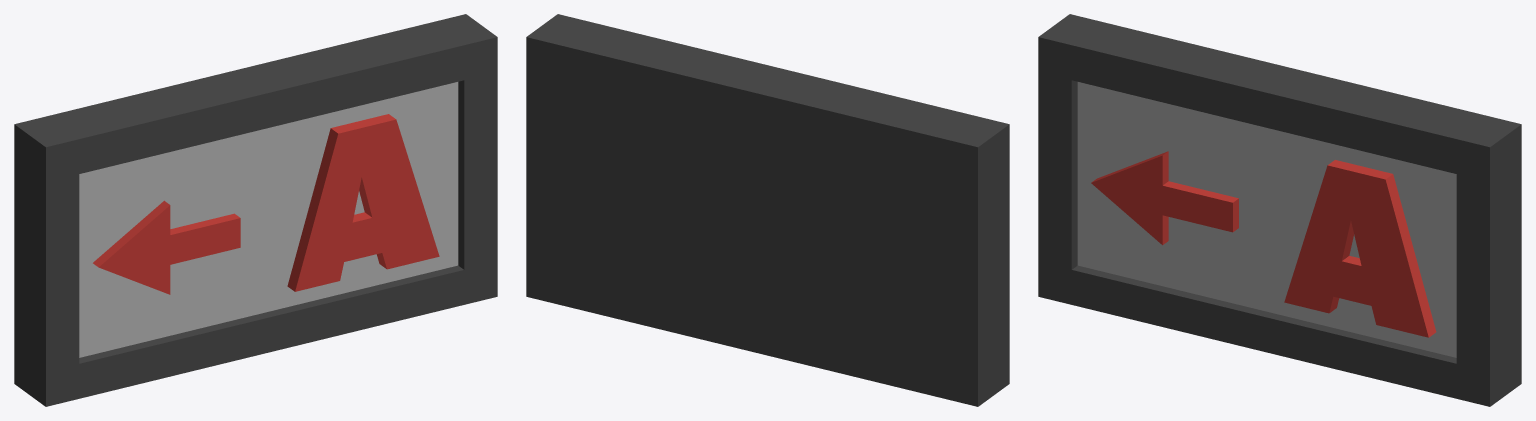
File: SignA_02.fbx
3 views of the same model, side by side, from view 1: azimuth 30°, elevation 25°; view 2: azimuth 150°, elevation 25°; view 3: azimuth 330°, elevation 25° (orthographic).
Parts seen in each view (by area): view 1: SignA_02; view 2: SignA_02; view 3: SignA_02.
Boxes of the visible parts, <box> form: SignA_02: <box>14,14,497,406</box>; SignA_02: <box>526,14,1009,406</box>; SignA_02: <box>1038,14,1521,406</box>.
Size of the model in its own units: 58.56 by 32.16 by 7.45.
